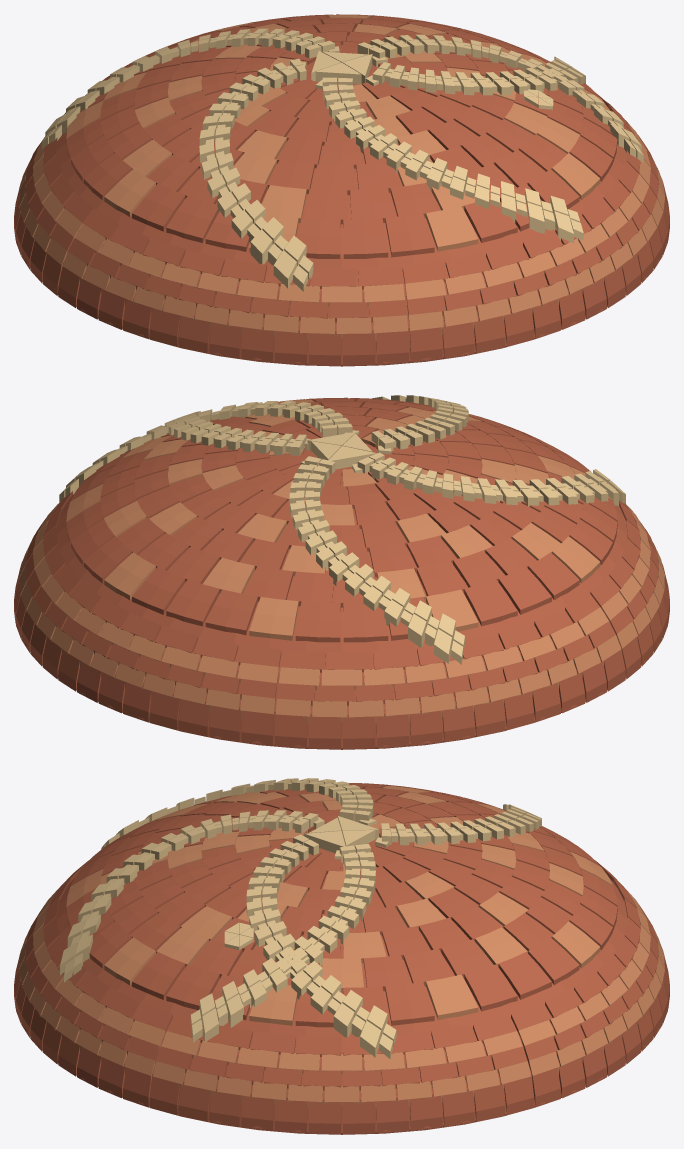
File: isorophus.glb
3 views of the same model, one above another, from view 1: azimuth 30°, elevation 25°; view 2: azimuth 150°, elevation 25°; view 3: azimuth 270°, elevation 25° (orthographic).
Parts seen in each view (by area): view 1: isorophus-original-organism; view 2: isorophus-original-organism; view 3: isorophus-original-organism.
Boxes of the visible parts, x1,y1,x2,y2 form: isorophus-original-organism: (14, 14, 669, 366); isorophus-original-organism: (14, 395, 669, 749); isorophus-original-organism: (14, 778, 669, 1134).
Size of the model in its own units: 0.025 by 0.00793 by 0.025.
